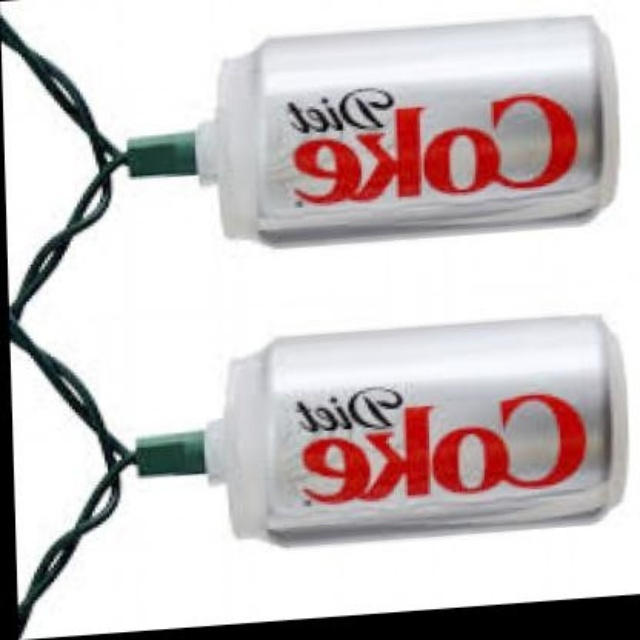trash: (197, 17, 617, 240), (209, 315, 626, 535)
